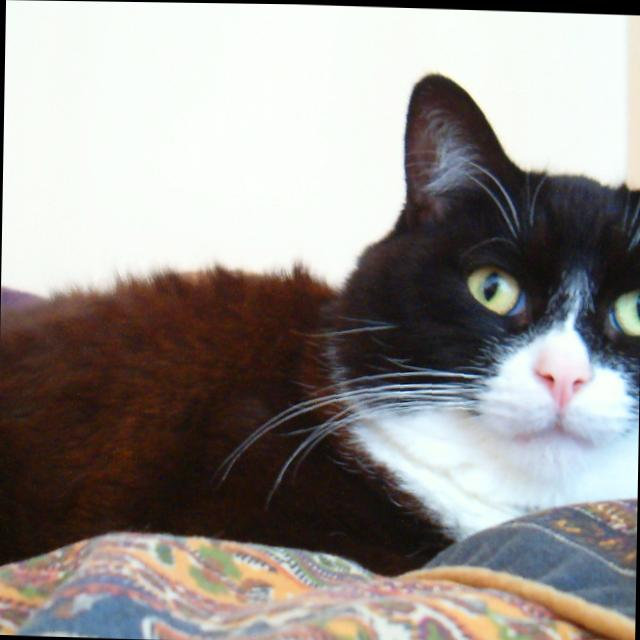animals: (404, 75, 640, 403)
